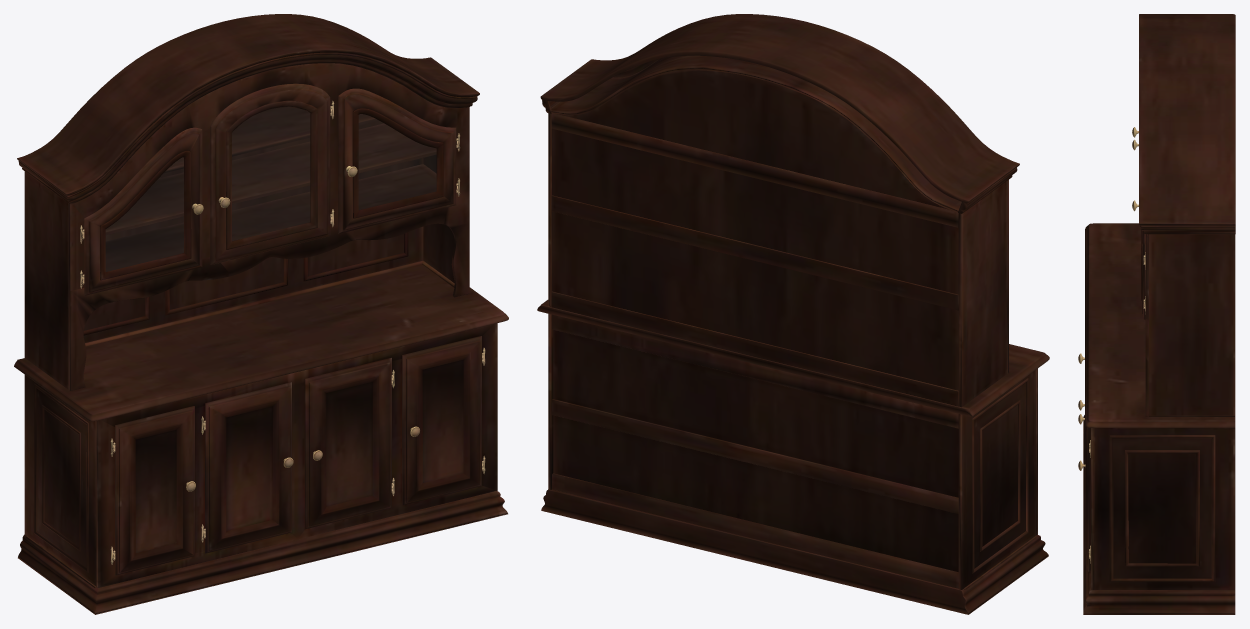
The model's file is vintage_cabinet_01.glb.
The picture shows the model from 3 angles, left to right: view 1: azimuth 30°, elevation 25°; view 2: azimuth 150°, elevation 25°; view 3: azimuth 270°, elevation 25°; orthographic projection. The views are drawn at different scales.
Parts seen in each view (by area): view 1: vintage_cabinet_01_body, vintage_cabinet_01_door_03, vintage_cabinet_01_door_01, vintage_cabinet_01_door_04, vintage_cabinet_01_door_07, vintage_cabinet_01_door_06, vintage_cabinet_01_door_05, vintage_cabinet_01_door_02; view 2: vintage_cabinet_01_body; view 3: vintage_cabinet_01_body, vintage_cabinet_01_door_02, vintage_cabinet_01_door_04.
Boxes of the visible parts, bbox=[...] form: vintage_cabinet_01_body: bbox=[14, 14, 508, 614]; vintage_cabinet_01_door_03: bbox=[210, 83, 332, 264]; vintage_cabinet_01_door_01: bbox=[82, 127, 203, 295]; vintage_cabinet_01_door_04: bbox=[338, 88, 458, 233]; vintage_cabinet_01_door_07: bbox=[304, 357, 392, 529]; vintage_cabinet_01_door_06: bbox=[204, 382, 293, 553]; vintage_cabinet_01_door_05: bbox=[113, 406, 195, 575]; vintage_cabinet_01_door_02: bbox=[402, 336, 483, 505]; vintage_cabinet_01_body: bbox=[537, 14, 1049, 614]; vintage_cabinet_01_body: bbox=[1083, 14, 1235, 614]; vintage_cabinet_01_door_02: bbox=[1078, 427, 1090, 572]; vintage_cabinet_01_door_04: bbox=[1132, 200, 1145, 319].
Bounding box in the file's own units: 2.02 × 2.24 × 0.6698.
Materials: 3 (2 with a texture image).
